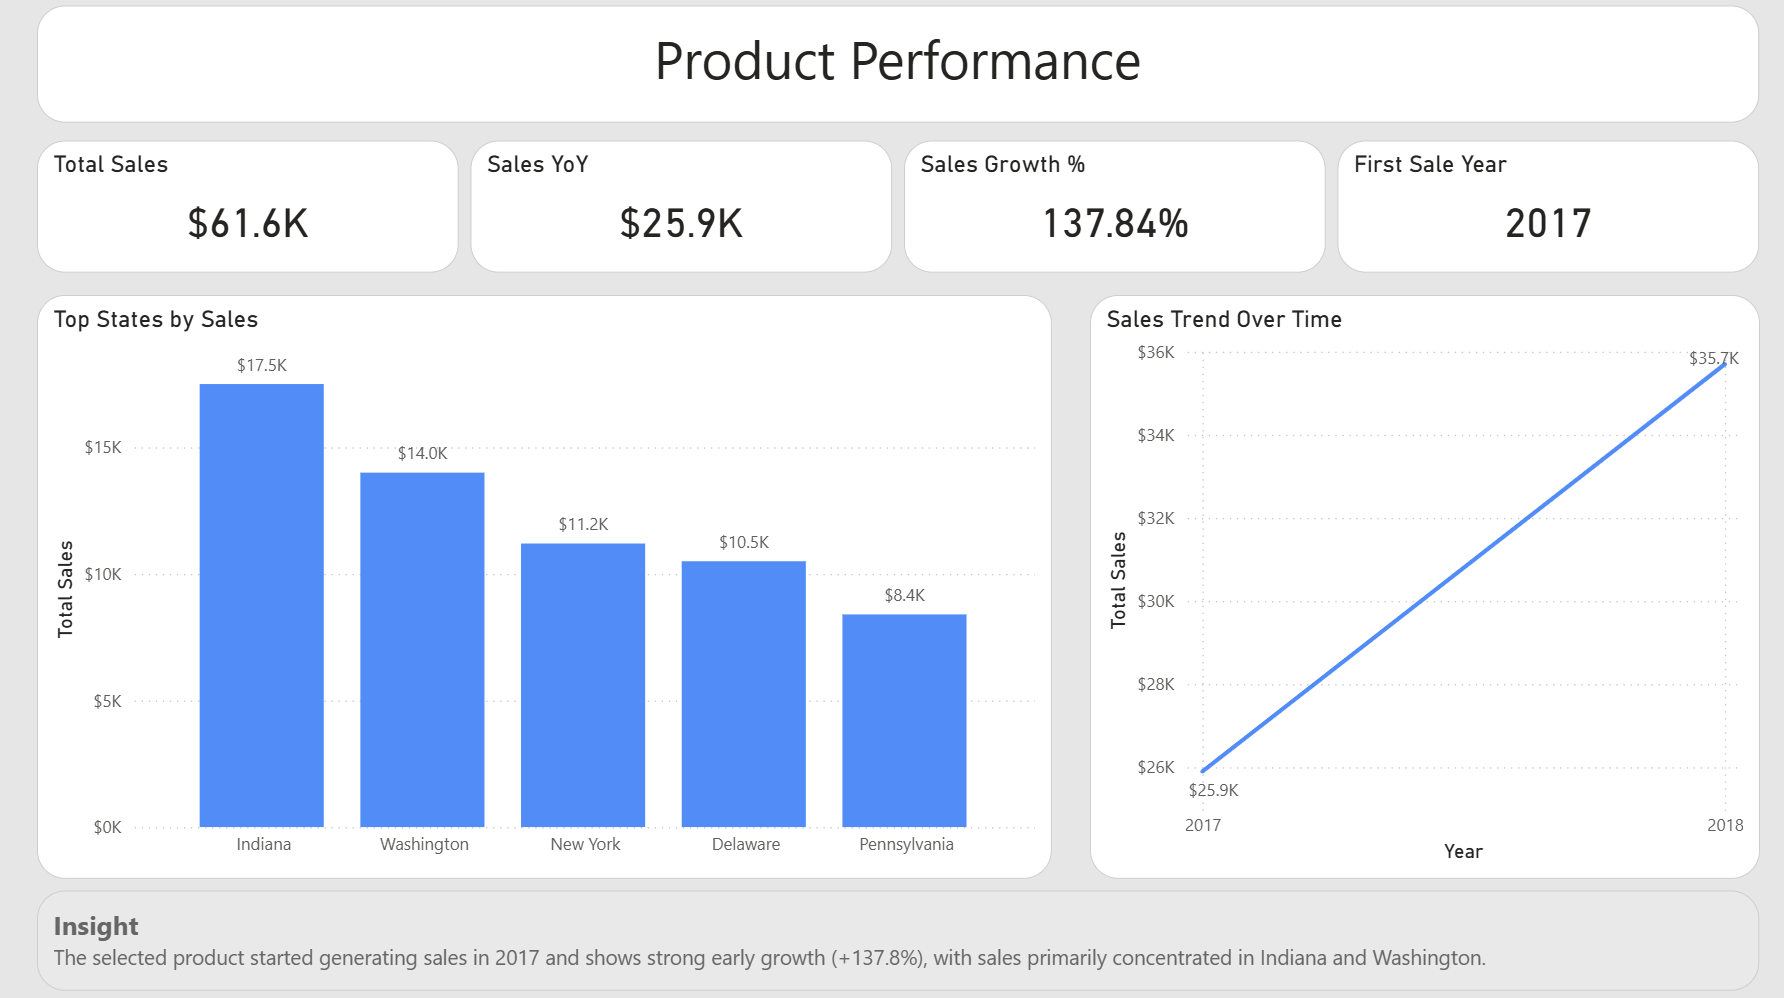

Layout of this report page (visuals, bound fields, positions):
{"tool":"powerbi","page":{"name":"Product Performance ","canvas":[1280,720],"ordinal":1},"visuals":[{"type":"card","title":"Total Sales","fields":{"Values":["Fact_Sales.Total_Sales"]},"box":[32,105.7,299.9,93.9],"z":0},{"type":"card","title":"Sales YoY","fields":{"Values":["Fact_Sales.Sales YoY"]},"box":[340.4,105.7,299.9,93.9],"z":1000},{"type":"card","title":"First Sale Year","fields":{"Values":["Fact_Sales.First Sale Year"]},"box":[957.3,105.7,299.9,93.9],"z":2000},{"type":"textbox","box":[32,9.6,1225.2,83.2],"z":3000},{"type":"card","title":"Sales Growth %","fields":{"Values":["Fact_Sales.Sales Growth %"]},"box":[648.9,105.7,299.9,93.9],"z":4000},{"type":"lineChart","title":"Sales Trend Over Time","fields":{"Category":["Dim_Date.Year"],"Y":["Fact_Sales.Total Sales"]},"box":[781.1,215.6,476.7,415.6],"z":5000},{"type":"clusteredColumnChart","title":"Top States by Sales","fields":{"Category":["Dim_Geography.State"],"Y":["Fact_Sales.Total Sales"]},"box":[32.2,215.6,722.2,415.6],"z":6000},{"type":"textbox","box":[32.2,638.9,1225.6,71.1],"z":7000}]}

Visuals, with their boxes in screenshot pixels (x1, y1, x2, y2), scaled from the page's 1280x720 canvas onto the 1784x998 screenshot:
"Total Sales" card: [left=45, top=147, right=463, bottom=277]
"Sales YoY" card: [left=474, top=147, right=892, bottom=277]
"First Sale Year" card: [left=1334, top=147, right=1752, bottom=277]
textbox: [left=45, top=13, right=1752, bottom=129]
"Sales Growth %" card: [left=904, top=147, right=1322, bottom=277]
"Sales Trend Over Time" lineChart: [left=1089, top=299, right=1753, bottom=875]
"Top States by Sales" clusteredColumnChart: [left=45, top=299, right=1051, bottom=875]
textbox: [left=45, top=886, right=1753, bottom=984]
